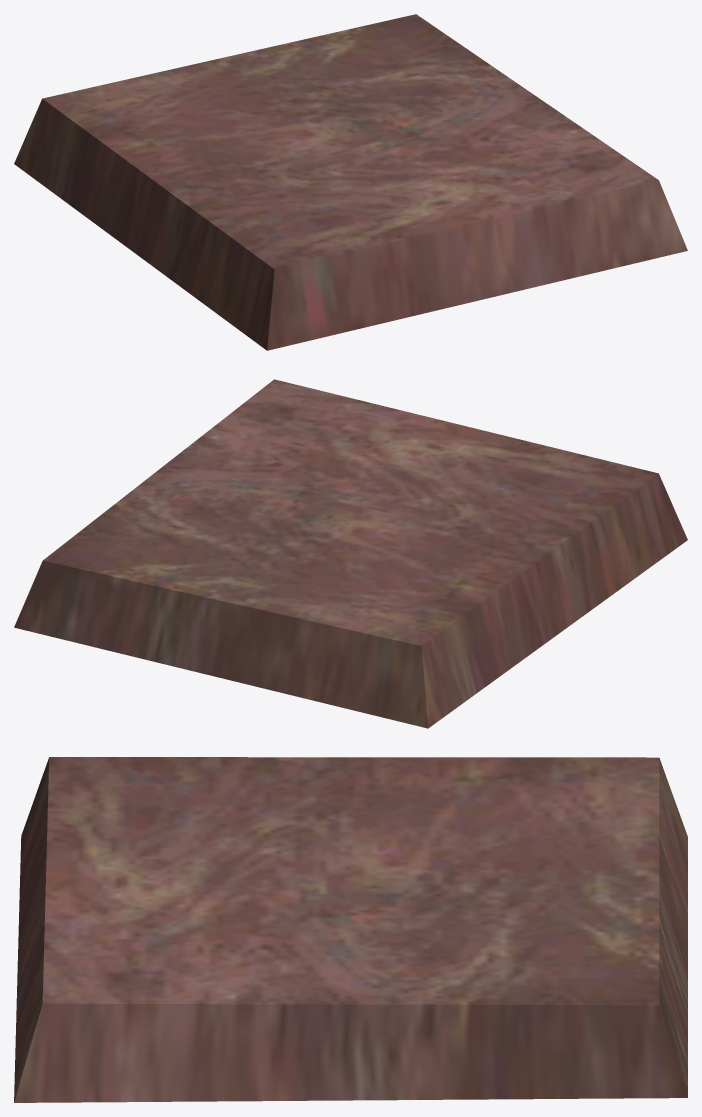
File: frn_all_throwpillow_med_s02_l2.fbx
3 renders of one model, top to bottom at view 1: azimuth 30°, elevation 25°; view 2: azimuth 150°, elevation 25°; view 3: azimuth 270°, elevation 25°, orthographic. The views are drawn at different scales.
Visible parts, largest first — view 1: mesh_node; view 2: mesh_node; view 3: mesh_node.
Boxes of the visible parts, box(x1,y1,x2,y2) form: mesh_node: box(14, 14, 687, 350); mesh_node: box(14, 379, 687, 728); mesh_node: box(14, 757, 687, 1102).
Bounding box in the file's own units: 1.15 × 0.1824 × 1.23.
Materials: 1 (1 with a texture image).
